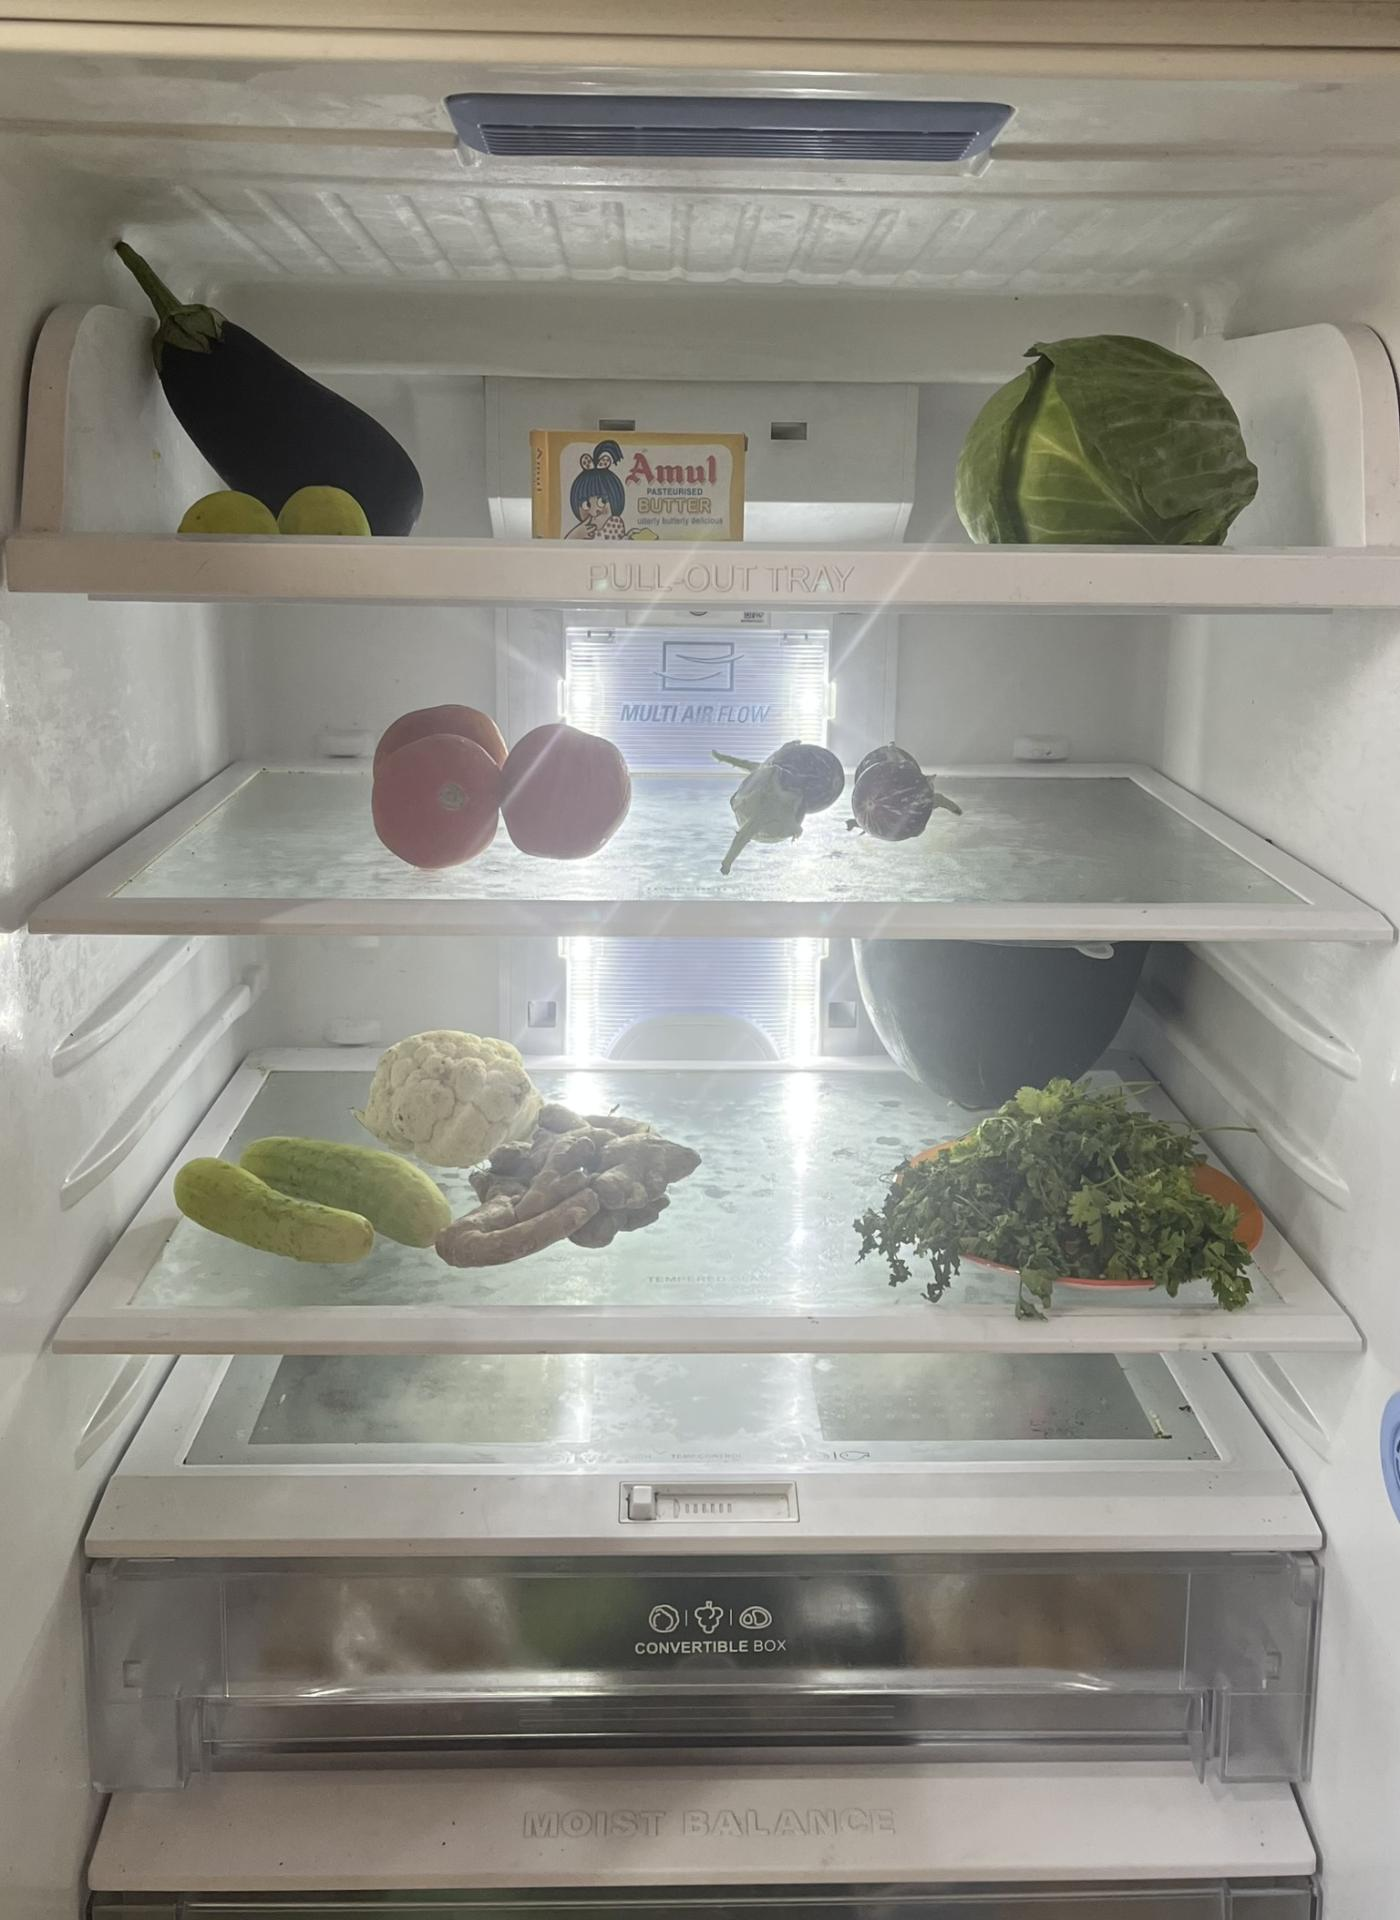brinjal: (110, 227, 432, 543), (719, 742, 939, 869)
butter: (532, 426, 744, 541)
cabbage: (953, 326, 1261, 537)
cauliflower: (359, 1021, 549, 1166)
coriander: (868, 1081, 1257, 1286)
cucumber: (177, 1134, 479, 1269)
ginger: (435, 1112, 692, 1269), (179, 487, 371, 541)
tomato: (371, 696, 507, 874), (496, 707, 632, 860)
watermelon: (845, 932, 1139, 1097)
